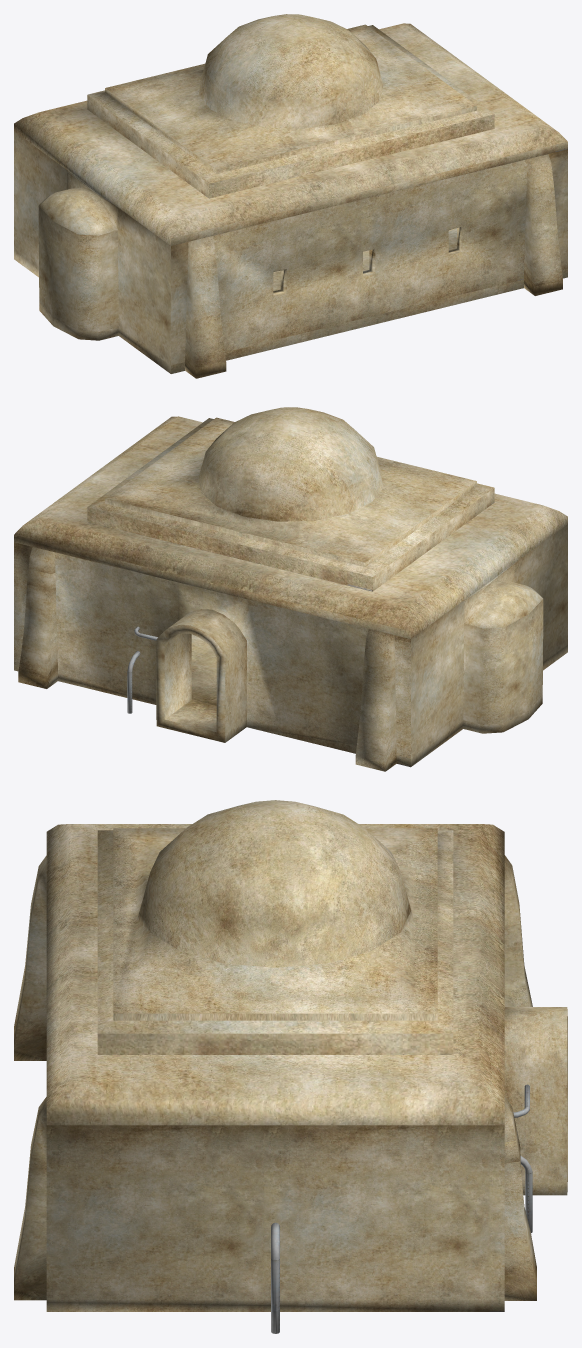
Rendered from sw_tatooine_house3.fbx.
The picture shows the model from 3 angles, top to bottom: view 1: azimuth 30°, elevation 25°; view 2: azimuth 150°, elevation 25°; view 3: azimuth 270°, elevation 25°; orthographic projection. The views are drawn at different scales.
Parts seen in each view (by area): view 1: sw_tatooine_house3; view 2: sw_tatooine_house3; view 3: sw_tatooine_house3.
Boxes of the visible parts, x1=… form: sw_tatooine_house3: x1=14, y1=14, x2=567, y2=378; sw_tatooine_house3: x1=14, y1=407, x2=567, y2=771; sw_tatooine_house3: x1=14, y1=800, x2=567, y2=1333.
Bounding box in the file's own units: 1885 × 997 × 1364.
Materials: 1 (1 with a texture image).
